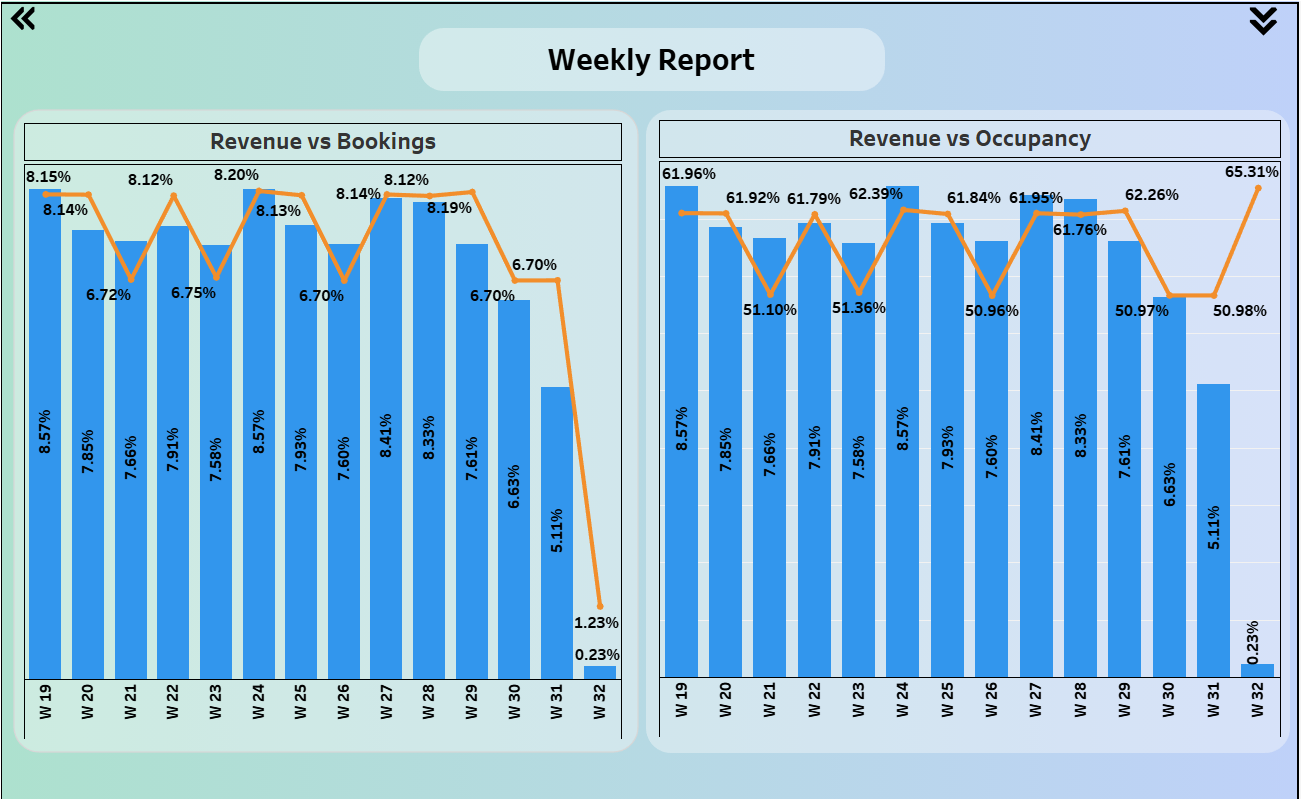

The page's visual inventory and layout, read from the dashboard file:
{"tool":"tableau","page":{"name":"Dashboard 2","canvas":[1300,800],"ordinal":1},"visuals":[{"type":"image","param":"Image/Green - Blue Background.png","box":[0,0,1300,800]},{"type":"worksheet","title":"Sheet 11","mark":"Automatic","box":[0,0,1300,800]},{"type":"dashboard-object","box":[0,0,47,34]},{"type":"dashboard-object","box":[1230,0,69,40]},{"type":"worksheet","title":"Sheet 9","mark":"Bar","rows":["revenue_generated","Calculation_680888027196207104"],"cols":["week_no"],"box":[660,119,622,618]},{"type":"worksheet","title":"Sheet 1","mark":"Bar","rows":["revenue_generated","successful_bookings"],"cols":["week_no"],"box":[25,122,598,617]}]}

Visuals, with their boxes in screenshot pixels (x1, y1, x2, y2), scaled from the page's 1300x800 canvas onto the 1302x800 screenshot:
image: locate(0, 0, 1301, 799)
"Sheet 11" worksheet: locate(0, 0, 1301, 799)
dashboard-object: locate(0, 0, 47, 34)
dashboard-object: locate(1232, 0, 1301, 40)
"Sheet 9" worksheet (Bar marks): locate(661, 119, 1284, 737)
"Sheet 1" worksheet (Bar marks): locate(25, 122, 624, 739)
